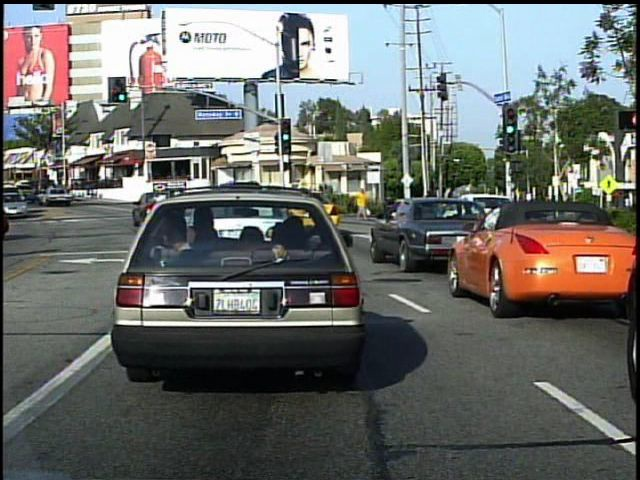person: (423, 186, 447, 232), (354, 185, 373, 224)
